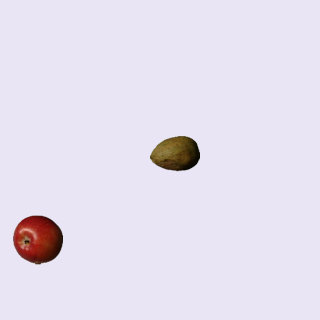Apple Braeburn: (12, 214, 62, 264)
Papaya: (149, 128, 199, 178)
